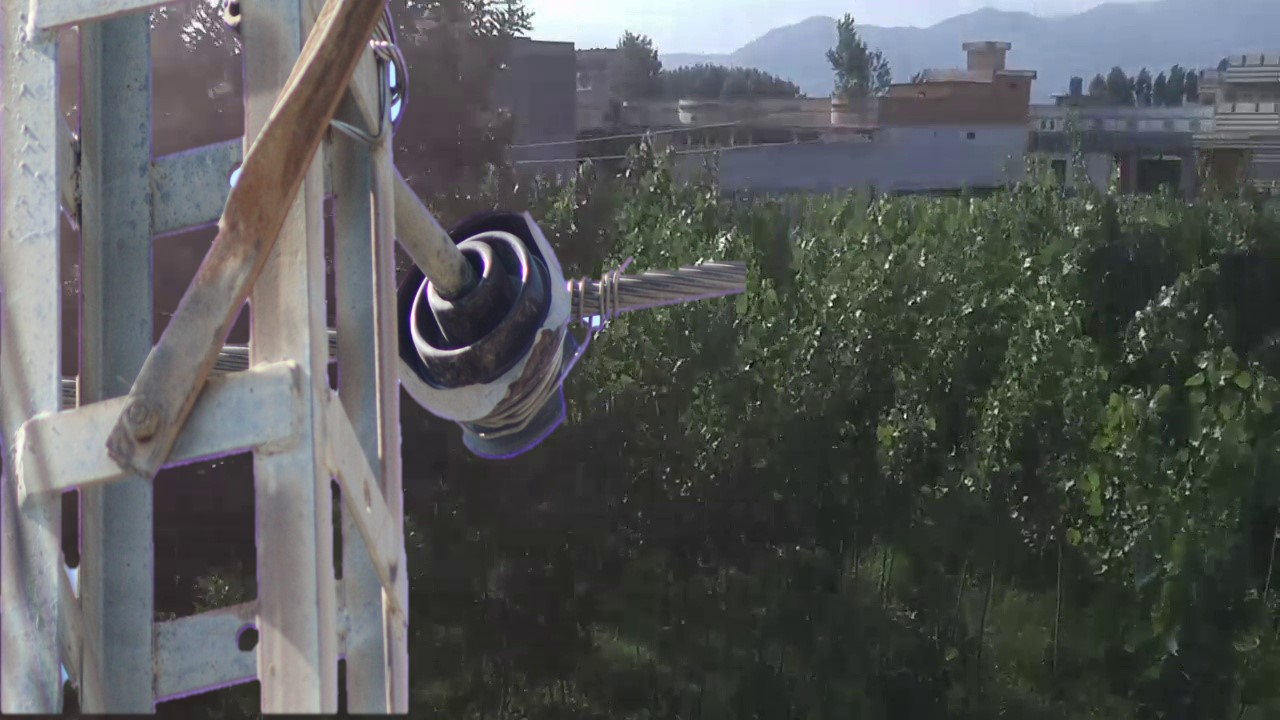defect_pin: (390, 210, 583, 471)
